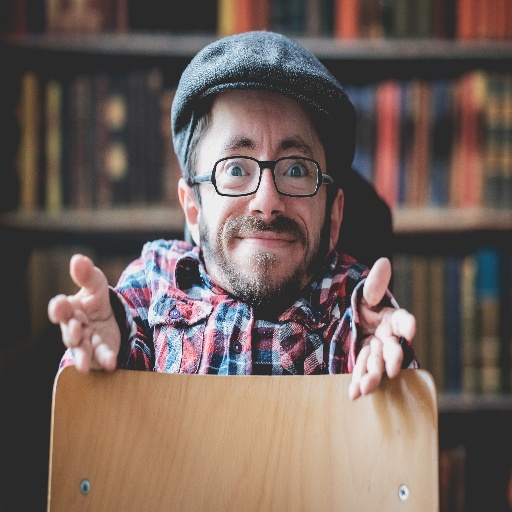hand: (346, 253, 416, 401), (44, 258, 126, 382)
